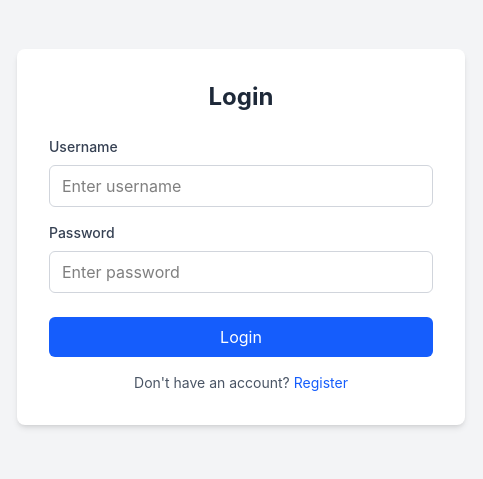
Login.vue › shows error on login failure
In the field with placeholder "Enter username": [241, 186] box [49,165,433,207], type "alice"
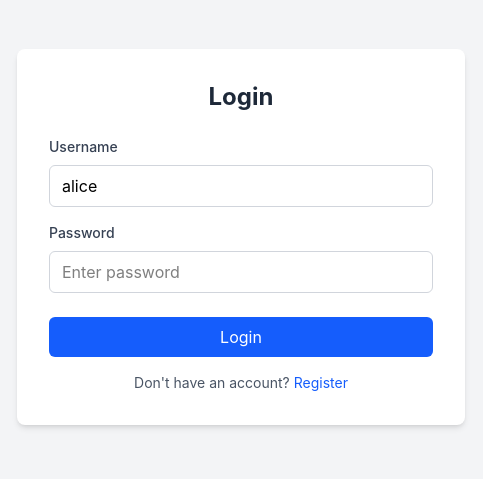
In the password field with placeholder "Enter password": [241, 272] box [49,251,433,293], type "wrong"
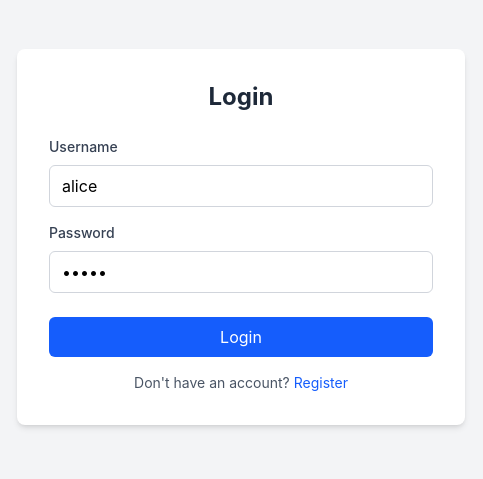
Submit the form, box [49,137,433,357]
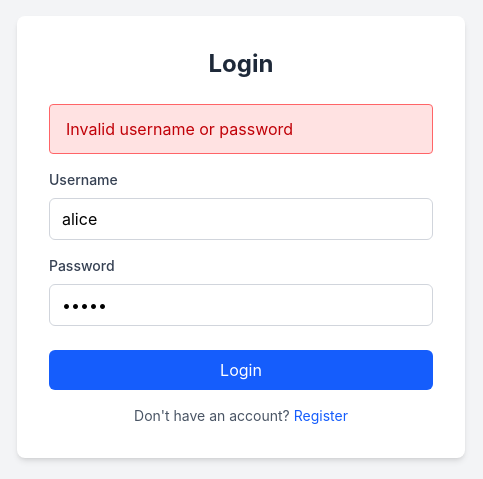
Now the text "Invalid username or password" is shown, box [49,104,433,154]
